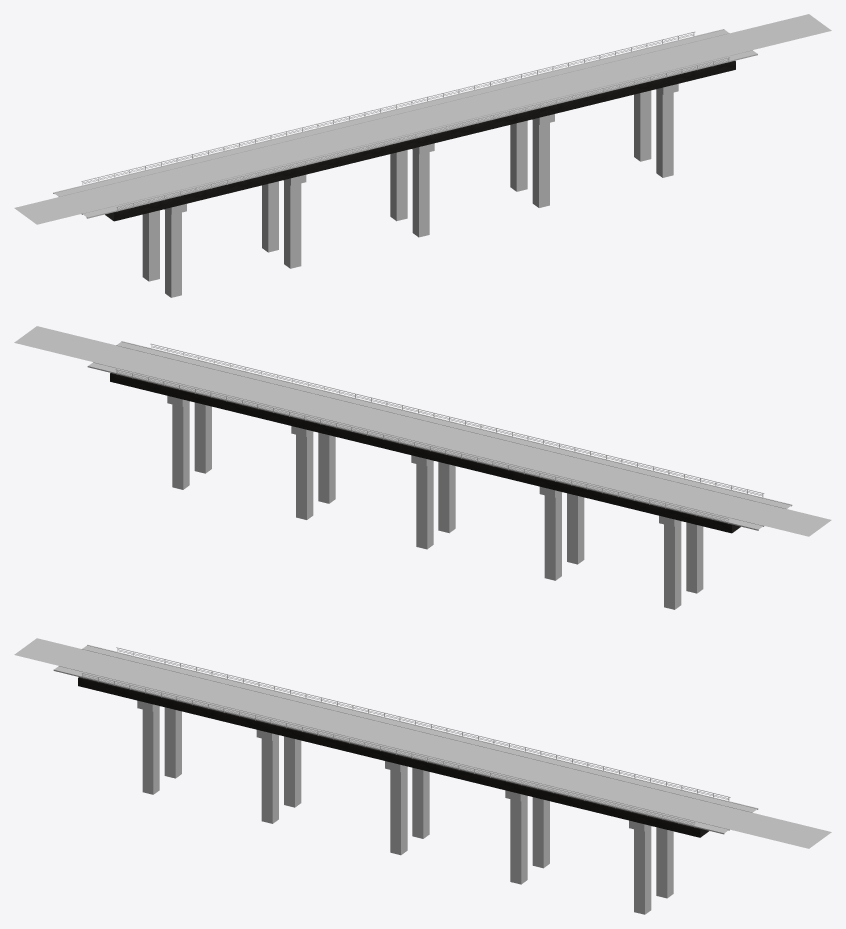
The model's file is Bridge03.fbx.
3 views of the same model, one above another, from view 1: azimuth 30°, elevation 25°; view 2: azimuth 150°, elevation 25°; view 3: azimuth 330°, elevation 25° (orthographic).
Parts seen in each view (by area): view 1: Bridge03; view 2: Bridge03; view 3: Bridge03.
Part boxes in pixels (bbox=[...]): Bridge03: bbox=[14, 14, 831, 297]; Bridge03: bbox=[14, 326, 831, 609]; Bridge03: bbox=[14, 638, 831, 914].
Size of the model in its own units: 20012 by 2584 by 1562.
